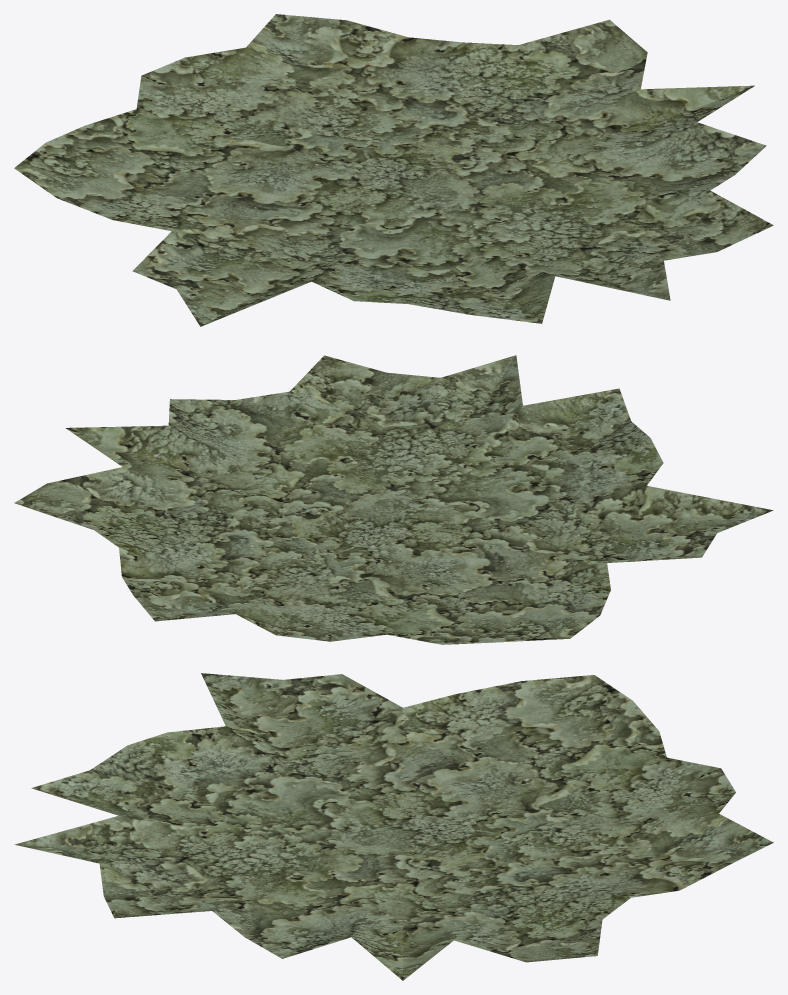
The model's file is lichen_crust_v01.glb.
3 views of the same model, one above another, from view 1: azimuth 30°, elevation 25°; view 2: azimuth 150°, elevation 25°; view 3: azimuth 270°, elevation 25° (orthographic). The views are drawn at different scales.
Parts seen in each view (by area): view 1: lichen_crust_v01; view 2: lichen_crust_v01; view 3: lichen_crust_v01.
Part boxes in pixels (x1=…): lichen_crust_v01: x1=14, y1=14, x2=773, y2=326; lichen_crust_v01: x1=14, y1=355, x2=773, y2=644; lichen_crust_v01: x1=14, y1=673, x2=773, y2=980.
Size of the model in its own units: 0.4859 by 0.0141 by 0.5003.
Materials: 1 (1 with a texture image).
